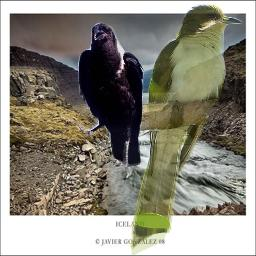Crow: (77, 22, 145, 171)
Cuckoo: (130, 4, 242, 255)
